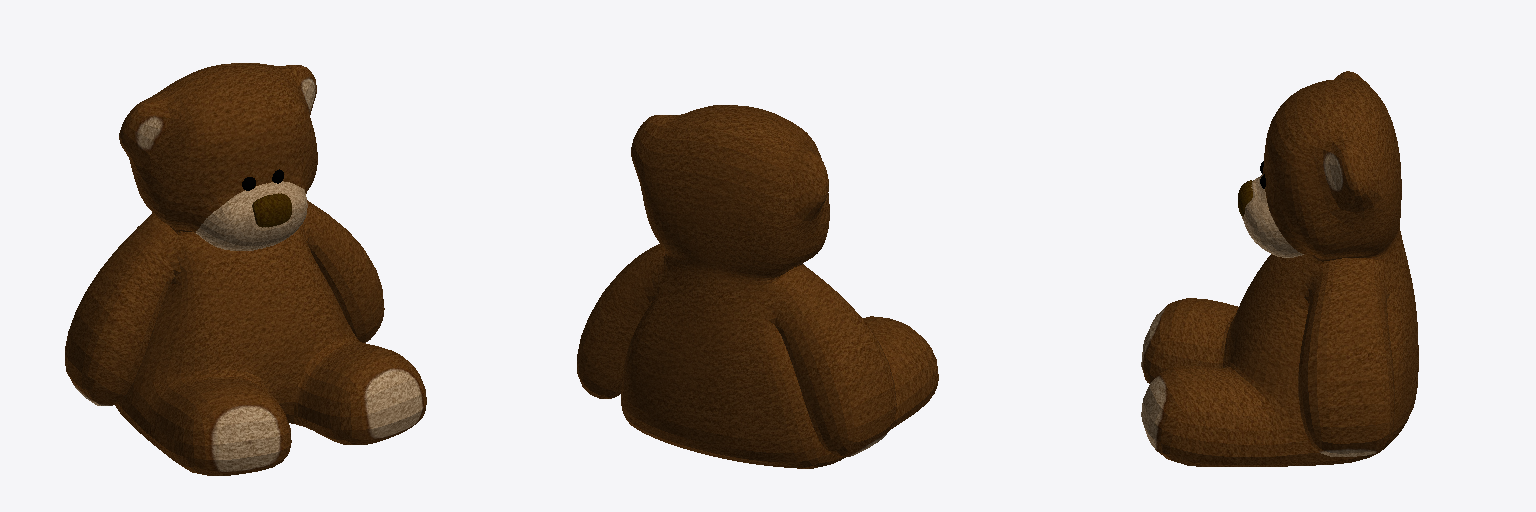
The picture shows the model from 3 angles: view 1: azimuth 30°, elevation 25°; view 2: azimuth 150°, elevation 25°; view 3: azimuth 270°, elevation 25°; orthographic projection.
Visible parts, largest first — view 1: Cube.001; view 2: Cube.001; view 3: Cube.001.
Part boxes in pixels (x1,y1,x2,y2): Cube.001: (65,63,426,475); Cube.001: (577,105,938,468); Cube.001: (1141,71,1418,466).
Bounding box in the file's own units: 4.19 × 4.4 × 3.37.
1 materials, 1 textured.